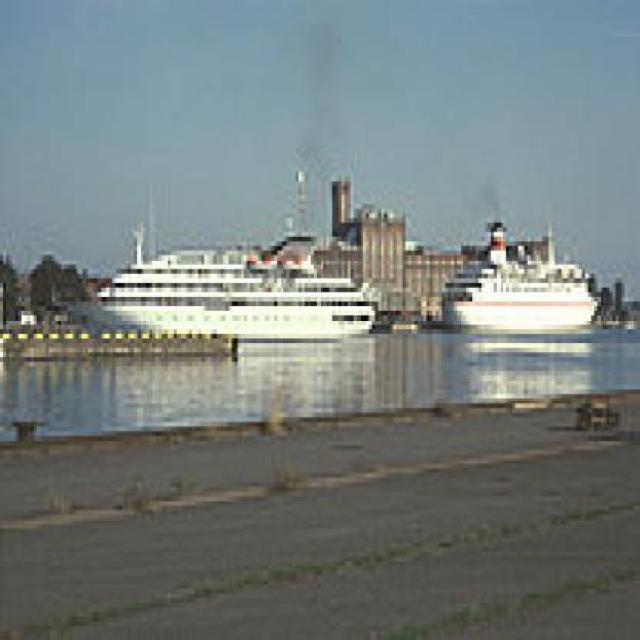cruise: (71, 210, 391, 358), (434, 205, 608, 349)
